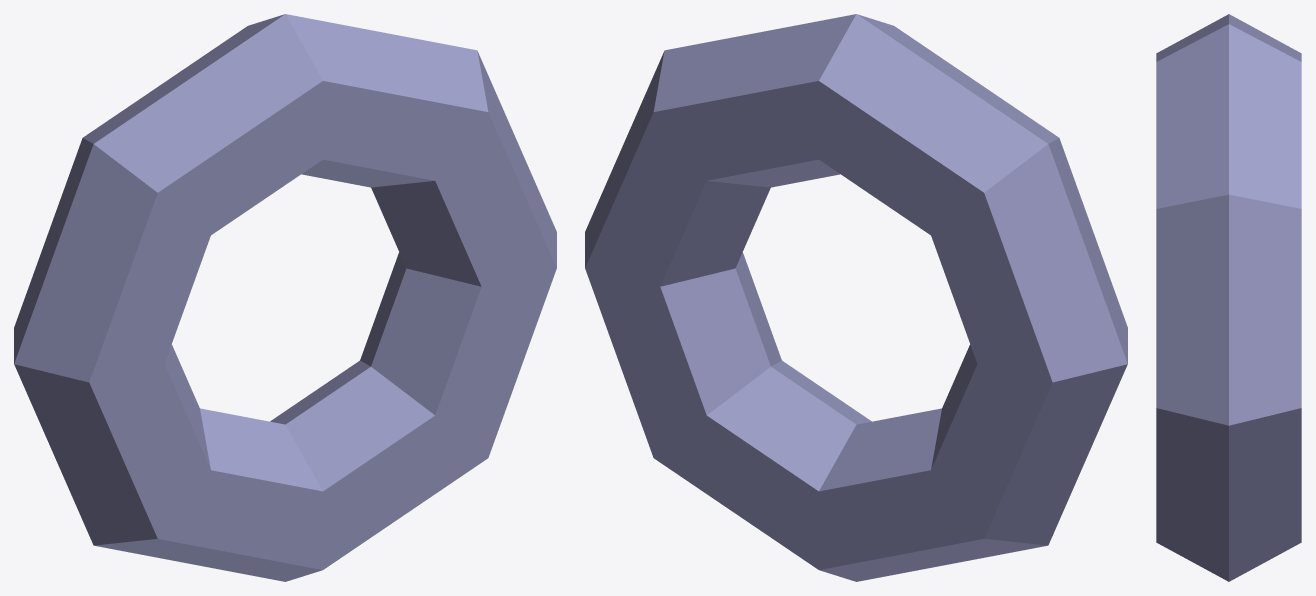
3 renders of one model, left to right at view 1: azimuth 30°, elevation 25°; view 2: azimuth 150°, elevation 25°; view 3: azimuth 270°, elevation 25°, orthographic. The views are drawn at different scales.
Parts seen in each view (by area): view 1: part0; view 2: part0; view 3: part0.
Boxes of the visible parts, box(x1,y1,x2,y2) form: part0: box(14, 14, 556, 581); part0: box(585, 14, 1127, 581); part0: box(1156, 14, 1301, 581).
Size of the model in its own units: 3.32 by 3.32 by 0.7967.
